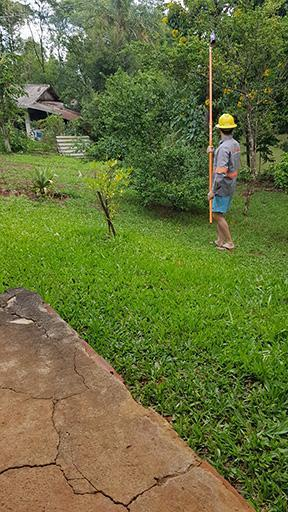helmet: (215, 111, 237, 138)
